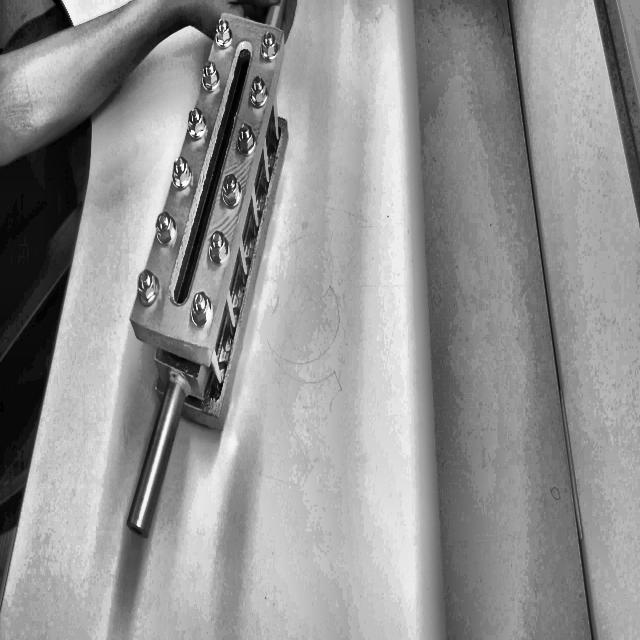ShuiWeiQi_12: (134, 8, 299, 542)
